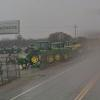Tractor: (17, 37, 70, 71)
